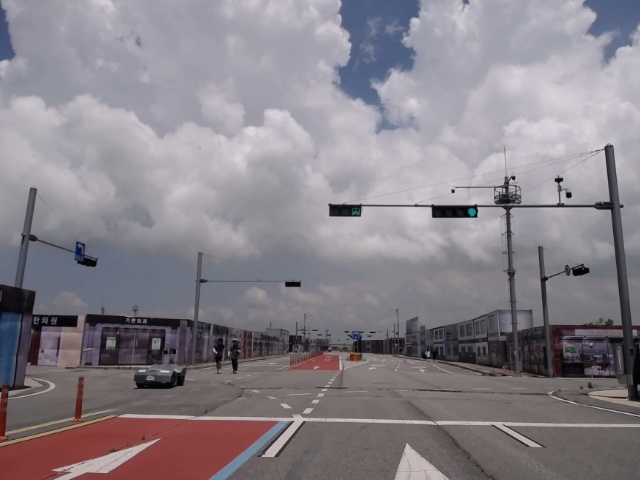straight_green_4: (433, 206, 477, 218)
